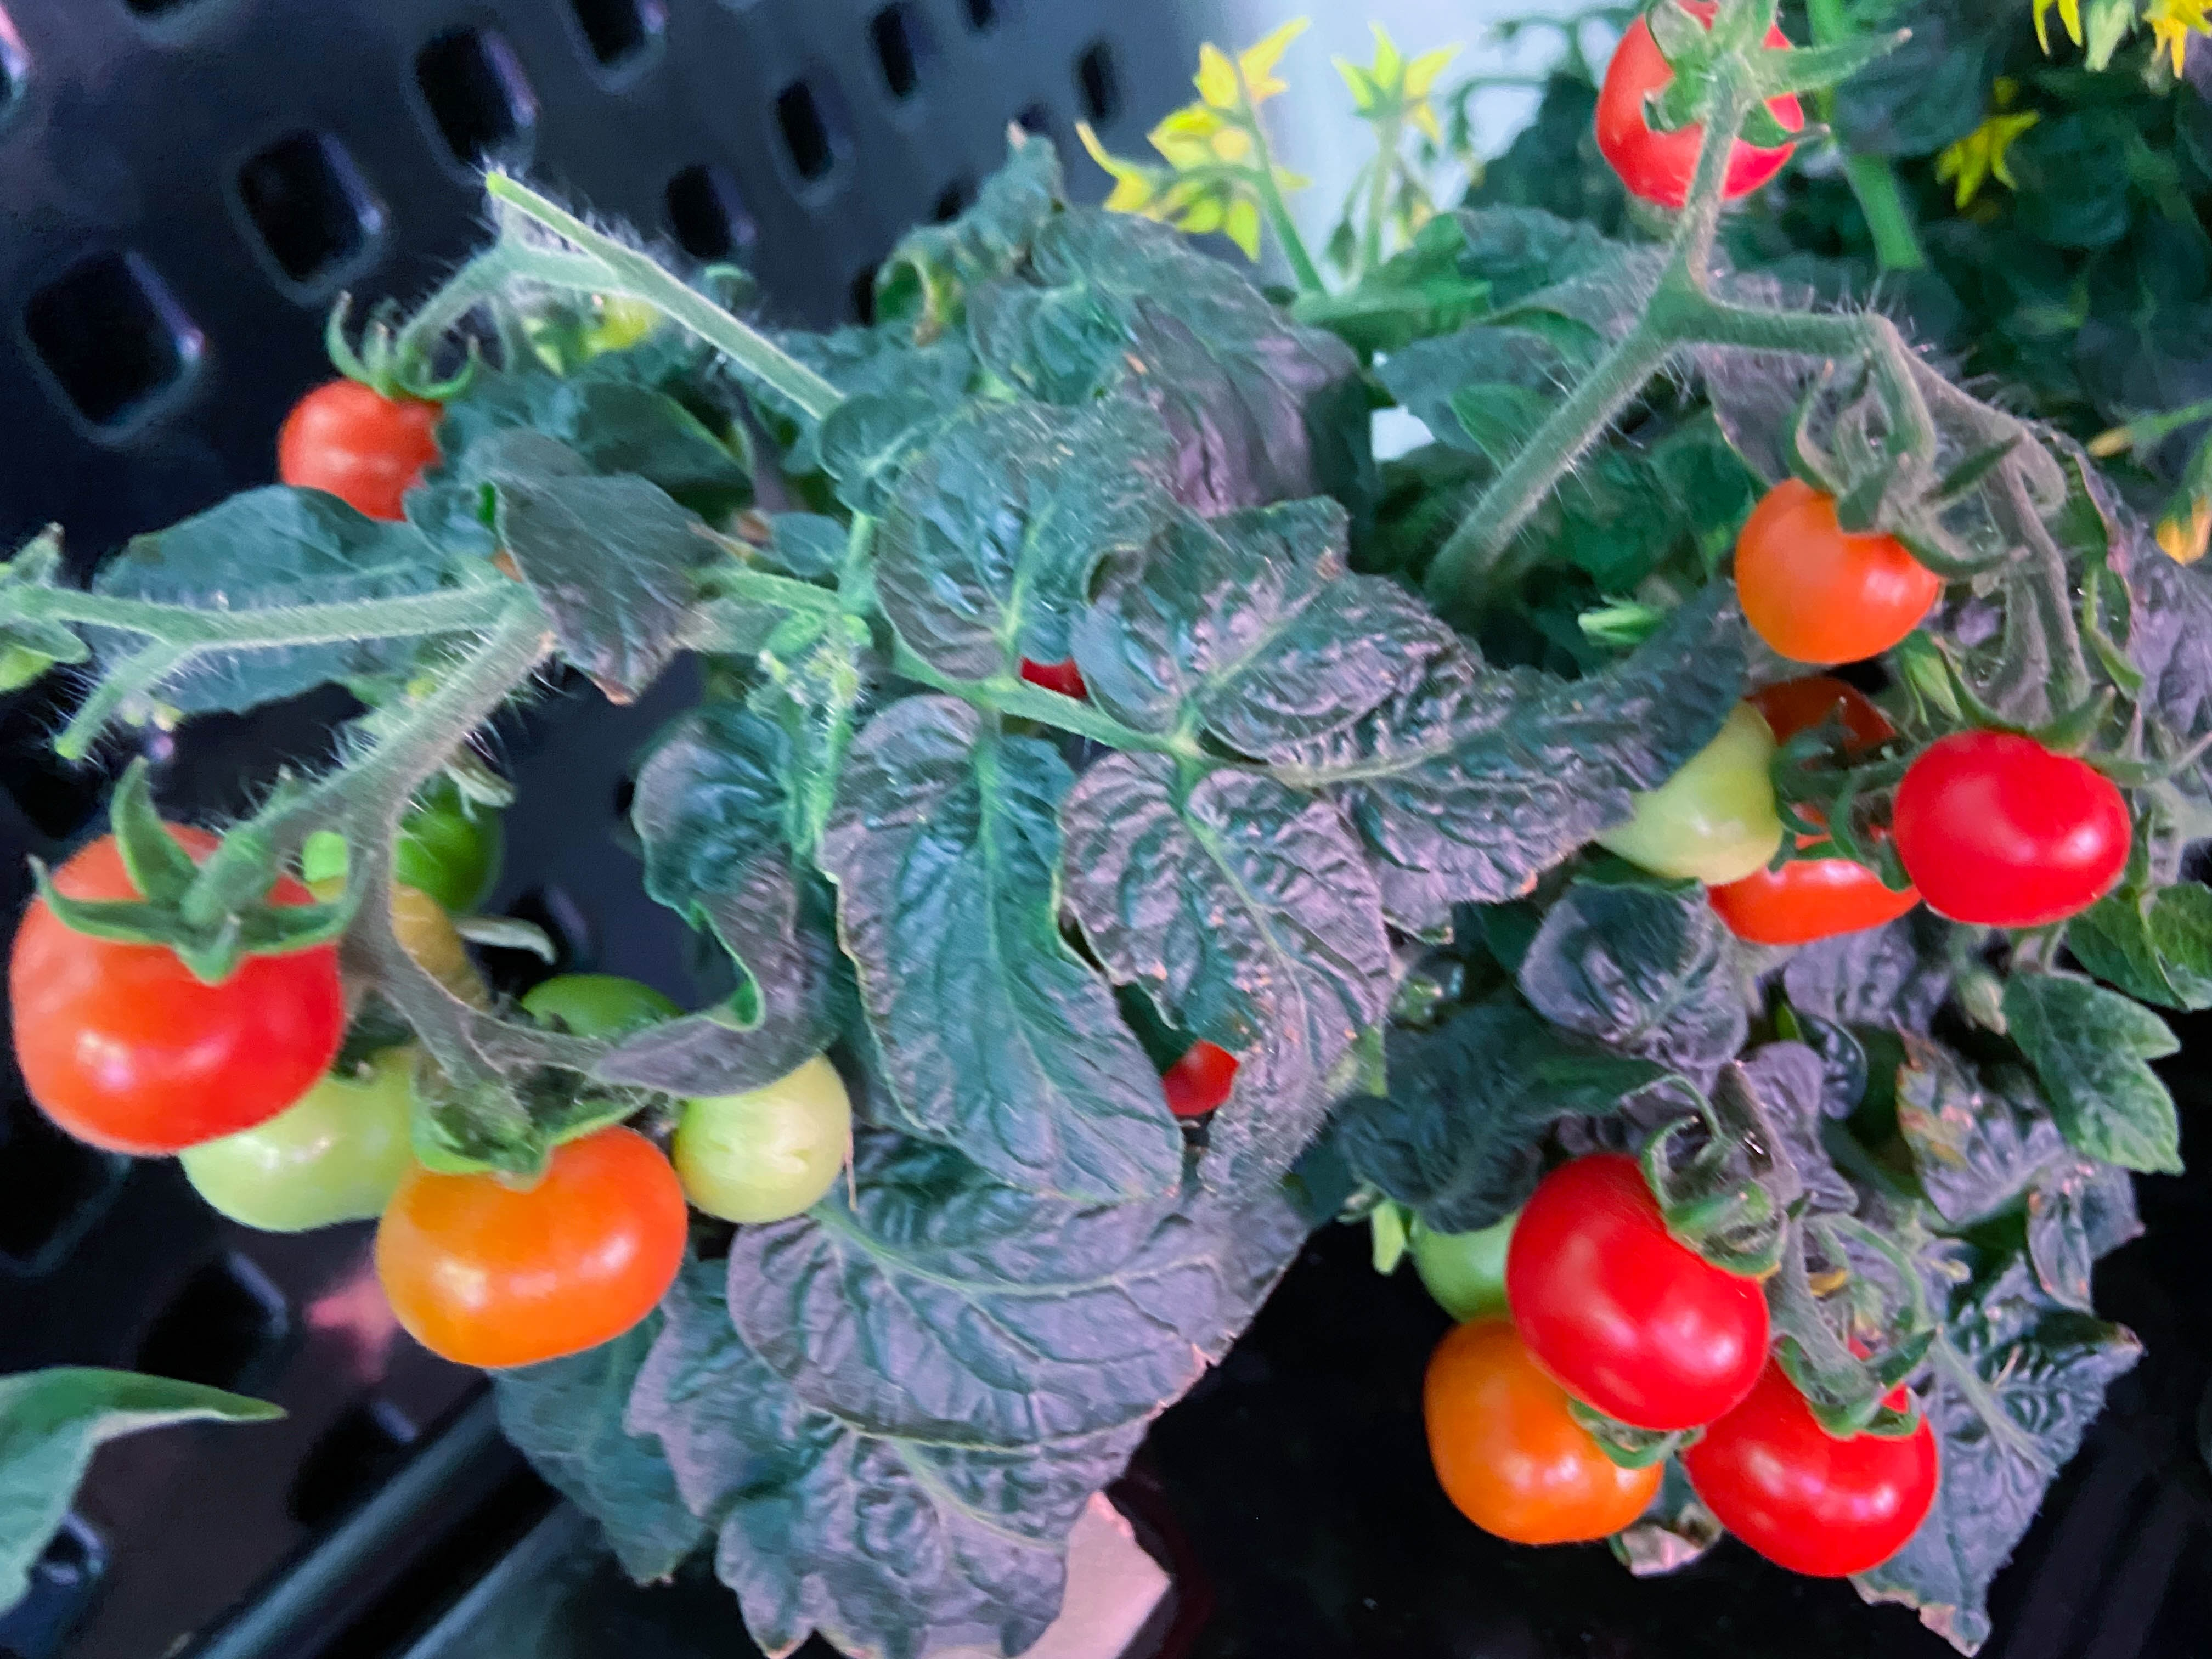green: (176, 1042, 462, 1237), (665, 1032, 855, 1230), (1599, 697, 1787, 885), (326, 767, 502, 927), (509, 967, 672, 1087), (1411, 1199, 1524, 1312), (516, 293, 641, 389)
red: (7, 814, 352, 1154), (374, 1110, 688, 1371), (1510, 1154, 1770, 1420), (1683, 1349, 1940, 1581), (1421, 1307, 1658, 1546), (1702, 678, 1905, 948), (1897, 725, 2132, 929), (1588, 2, 1804, 213), (1730, 465, 1942, 667), (277, 371, 467, 526), (995, 629, 1108, 714), (1158, 1040, 1242, 1119)
